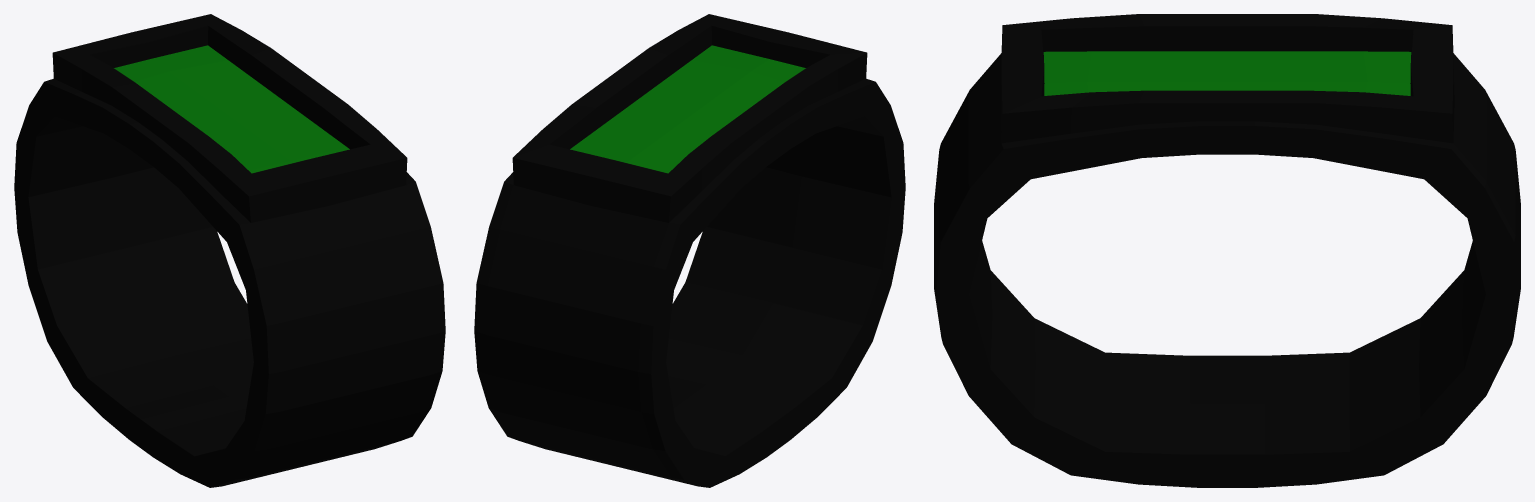
The model's file is Reloj.fbx.
The picture shows the model from 3 angles, left to right: view 1: azimuth 30°, elevation 25°; view 2: azimuth 150°, elevation 25°; view 3: azimuth 270°, elevation 25°; orthographic projection. The views are drawn at different scales.
Visible parts, largest first — view 1: Cube; view 2: Cube; view 3: Cube.
Part boxes in pixels (box(x1,y1,x2,y2)): Cube: box(14, 14, 445, 487); Cube: box(474, 14, 905, 487); Cube: box(934, 14, 1520, 487).
Size of the model in its own units: 75.9 by 136 by 189.
